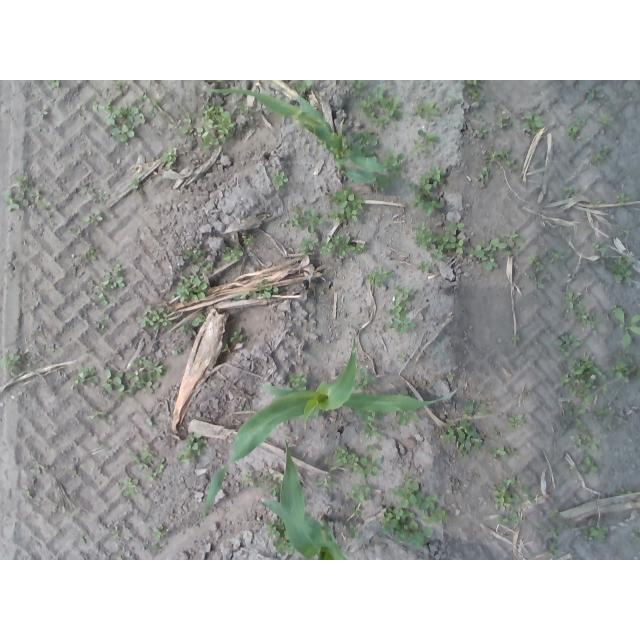Maize: (203, 338, 458, 519), (211, 89, 399, 187), (262, 440, 351, 560)
Weeds: (412, 217, 525, 274), (380, 476, 452, 549), (90, 80, 166, 144), (316, 442, 386, 508), (70, 358, 168, 397), (182, 98, 250, 151), (490, 475, 536, 533), (560, 353, 613, 403), (349, 80, 405, 126), (92, 257, 125, 335), (176, 248, 213, 304), (6, 173, 54, 215), (438, 419, 487, 458), (475, 147, 517, 190), (411, 164, 446, 215), (532, 507, 565, 558), (527, 248, 565, 292), (329, 183, 368, 222), (133, 442, 170, 483), (388, 284, 417, 335), (320, 233, 365, 260), (566, 290, 596, 330), (553, 401, 587, 435), (287, 204, 326, 233), (614, 305, 639, 348), (136, 304, 173, 333), (178, 432, 211, 464), (410, 129, 443, 159), (384, 150, 407, 190), (611, 350, 640, 380), (342, 507, 367, 541), (222, 325, 247, 357), (609, 257, 635, 287), (1, 349, 27, 377), (554, 331, 582, 357), (571, 431, 601, 455), (267, 525, 289, 556), (360, 411, 385, 438), (355, 130, 379, 158), (416, 99, 445, 122), (489, 445, 524, 464), (520, 112, 546, 137), (80, 184, 112, 204), (582, 521, 611, 543), (367, 266, 396, 287), (116, 477, 145, 498), (258, 468, 278, 498), (150, 524, 169, 554), (568, 113, 589, 140), (465, 80, 487, 104), (253, 278, 278, 298), (359, 368, 378, 392), (298, 237, 322, 256), (162, 146, 180, 170), (464, 402, 489, 419), (291, 80, 314, 98), (272, 169, 289, 193), (591, 145, 609, 167), (397, 410, 420, 427), (84, 209, 104, 228), (580, 458, 600, 477), (86, 406, 108, 423), (222, 246, 245, 262), (291, 370, 309, 390), (594, 407, 618, 421), (86, 245, 102, 264), (587, 89, 606, 105), (508, 413, 524, 432), (496, 115, 516, 130), (242, 467, 255, 489), (590, 113, 610, 127), (191, 312, 207, 328), (564, 185, 581, 200), (129, 177, 143, 194), (618, 192, 633, 207), (477, 123, 491, 139), (592, 241, 604, 259), (24, 485, 36, 502), (45, 80, 62, 92), (172, 344, 188, 356), (234, 291, 253, 301), (67, 225, 85, 235), (614, 488, 634, 497), (39, 105, 50, 120), (398, 350, 410, 363), (446, 371, 459, 382), (110, 527, 123, 538), (243, 235, 253, 246), (618, 228, 630, 237), (50, 343, 59, 354), (590, 201, 602, 209), (145, 418, 155, 427), (493, 428, 504, 436), (511, 334, 521, 341), (527, 389, 533, 397)
